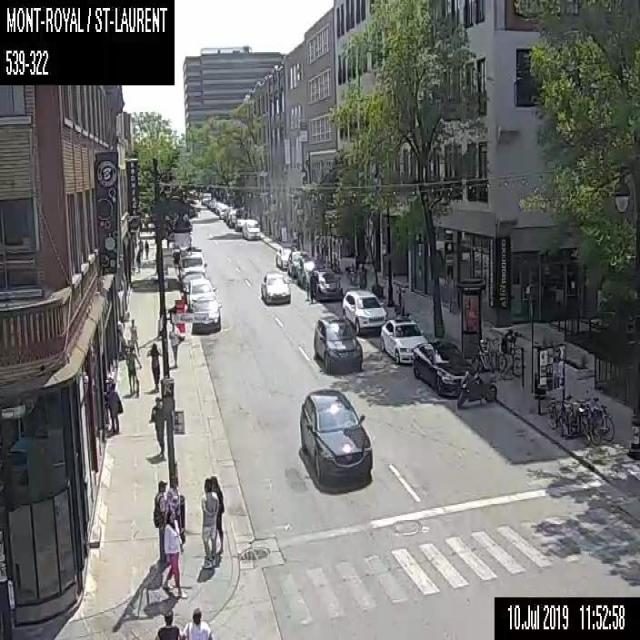pedestrian: (160, 508, 186, 597), (200, 474, 218, 571), (146, 395, 164, 460), (211, 473, 223, 568), (179, 607, 214, 639), (152, 605, 182, 639), (168, 476, 185, 534), (146, 342, 166, 391), (123, 345, 141, 395), (106, 382, 123, 434), (151, 478, 168, 528), (122, 314, 144, 352), (168, 322, 181, 369), (303, 267, 315, 304), (398, 283, 408, 317), (356, 258, 366, 286), (135, 249, 141, 272), (143, 238, 148, 258), (136, 237, 142, 251)
vehicle: (297, 386, 374, 486), (412, 342, 468, 398), (312, 315, 364, 372), (377, 320, 426, 367), (454, 371, 499, 410), (342, 289, 385, 329), (190, 294, 222, 336), (259, 269, 291, 304), (313, 270, 342, 302), (175, 249, 207, 273), (186, 279, 216, 302), (288, 250, 308, 276), (241, 218, 261, 240), (273, 247, 290, 266)
